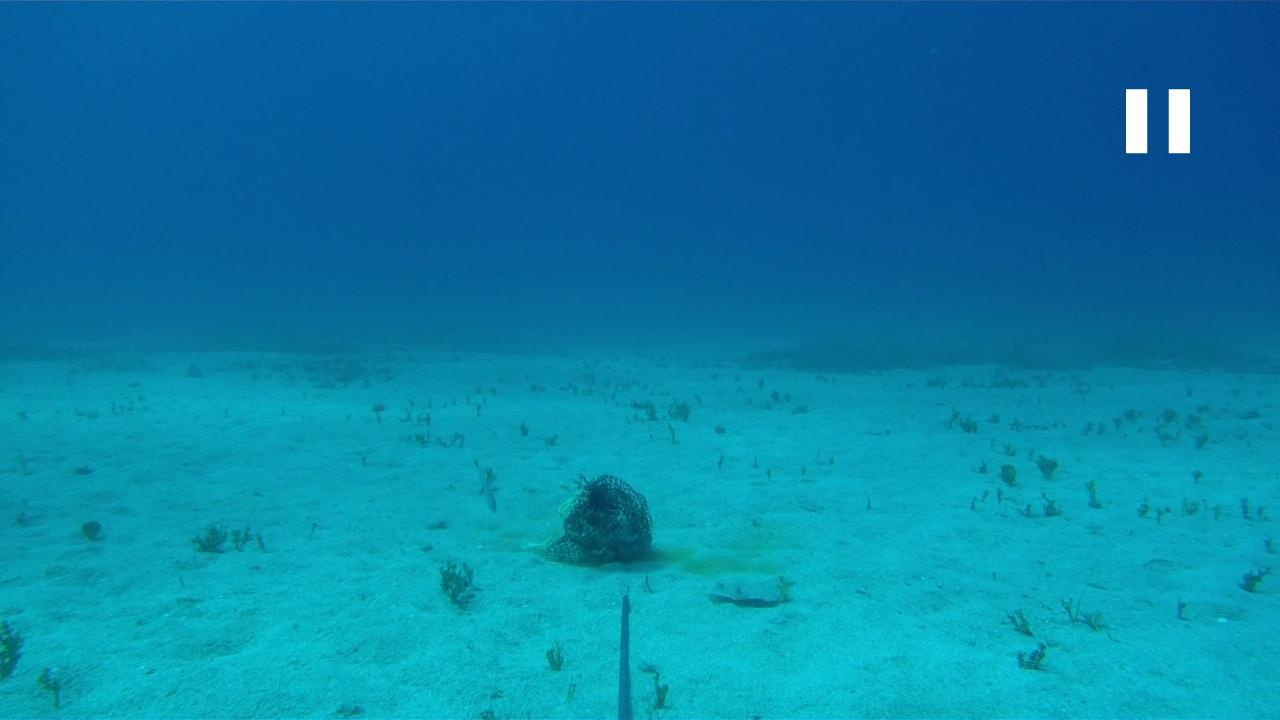bothus: (700, 570, 794, 608)
